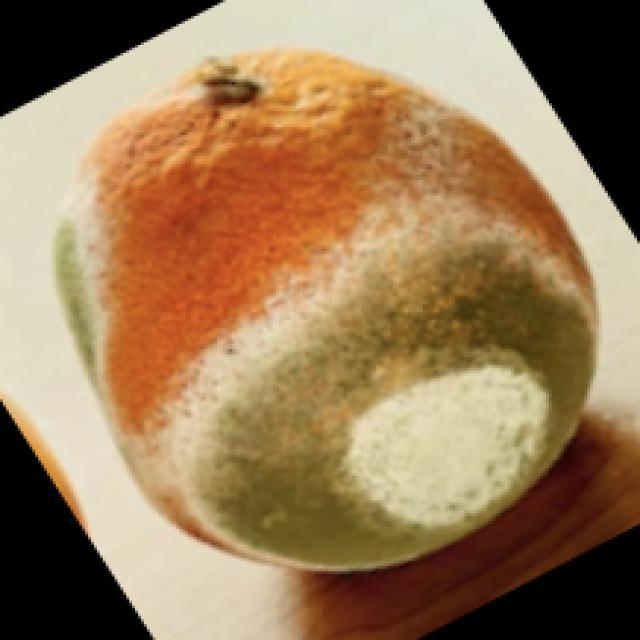sangat-busuk: (56, 51, 596, 570)
